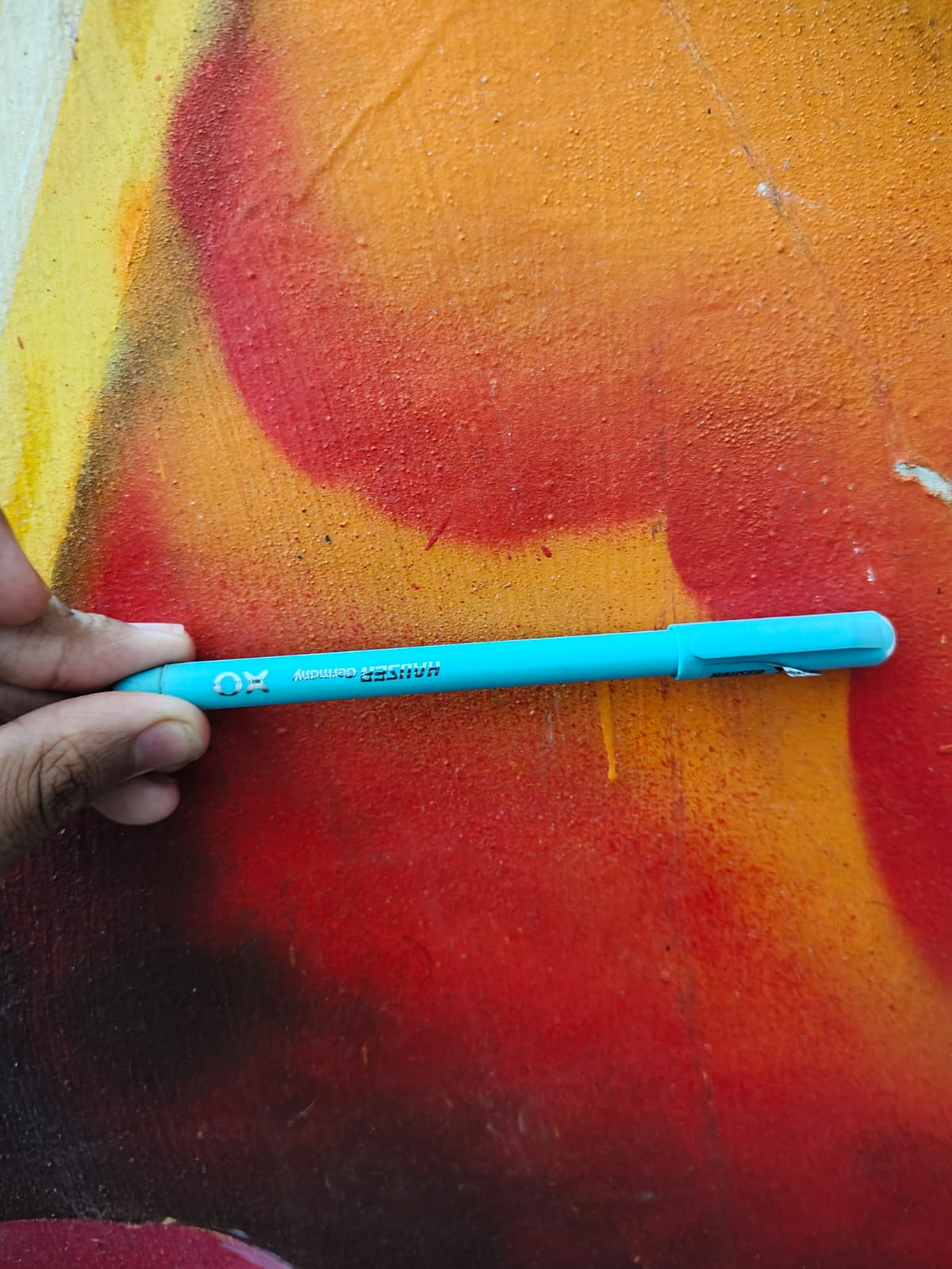pen: (114, 580, 914, 735)
